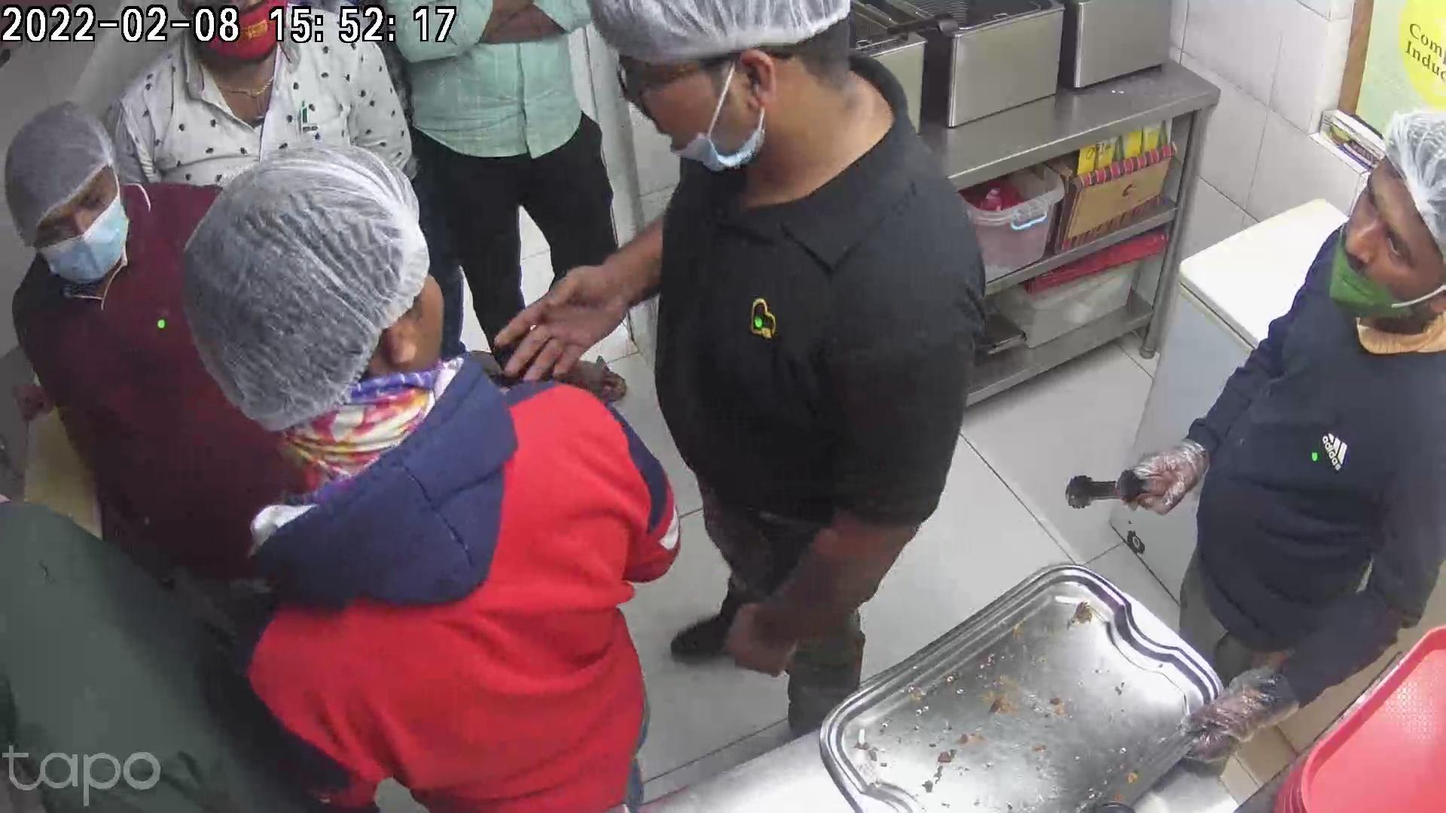no_gloves: (495, 235, 647, 379)
